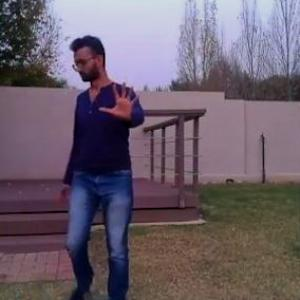follow_hand: (98, 73, 145, 119)
